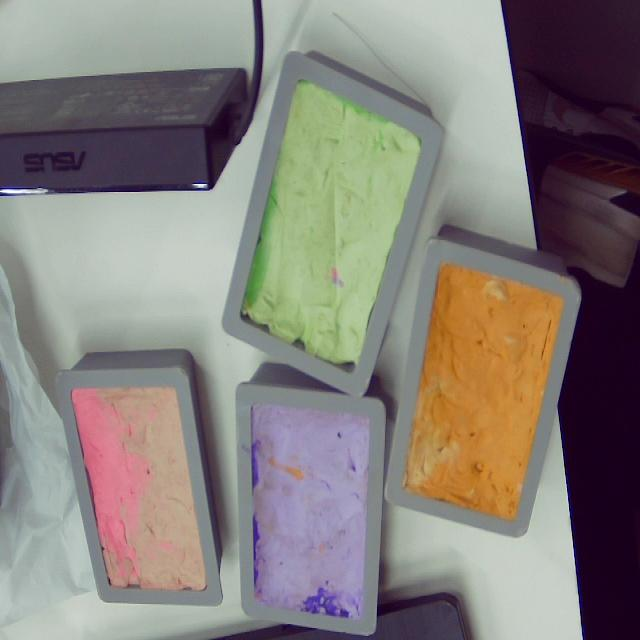block: (222, 49, 444, 400), (380, 228, 582, 547), (53, 349, 228, 609), (234, 373, 387, 637)
